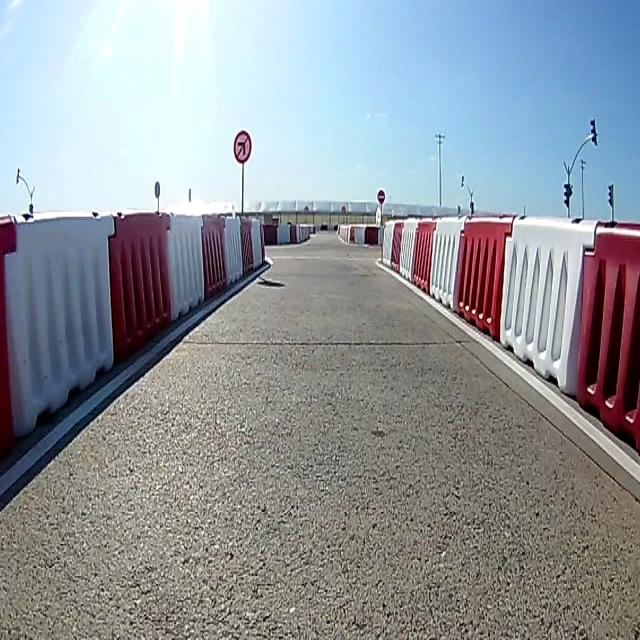girisyok: (377, 188, 386, 205)
soladonulmez: (234, 128, 252, 163)
